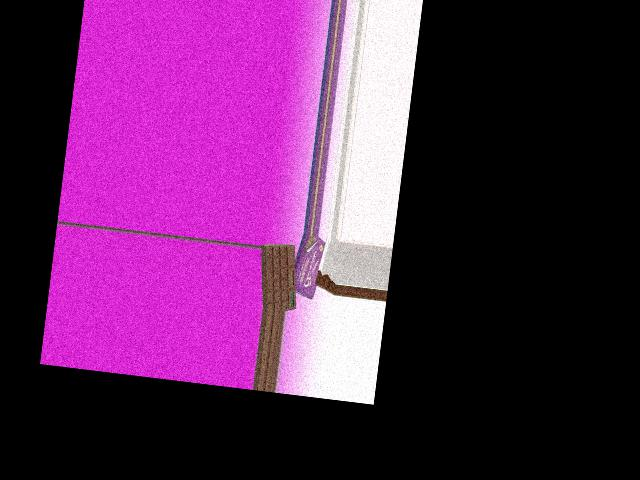chocolate: (253, 242, 304, 310)
